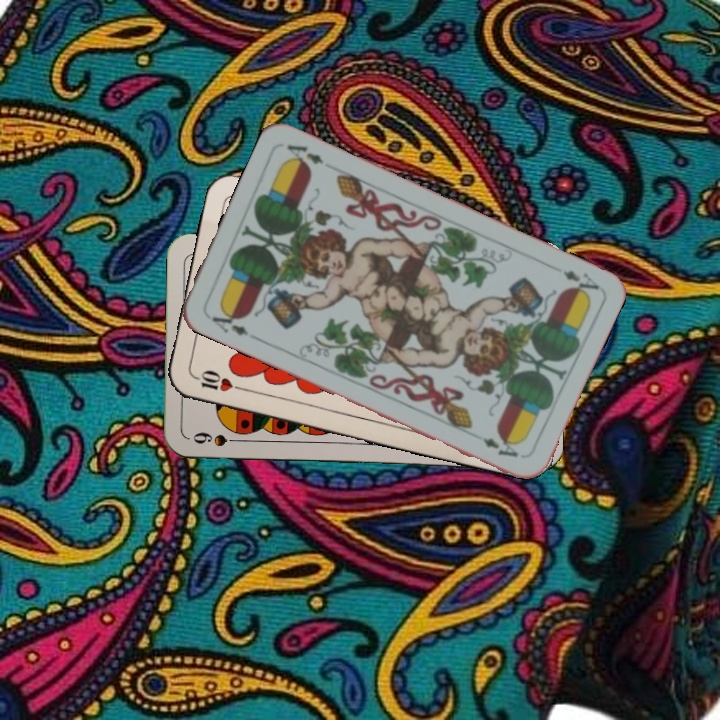EA: (208, 304, 260, 342), (559, 266, 602, 299)
H10: (188, 366, 247, 395)
S9: (189, 428, 247, 449)
